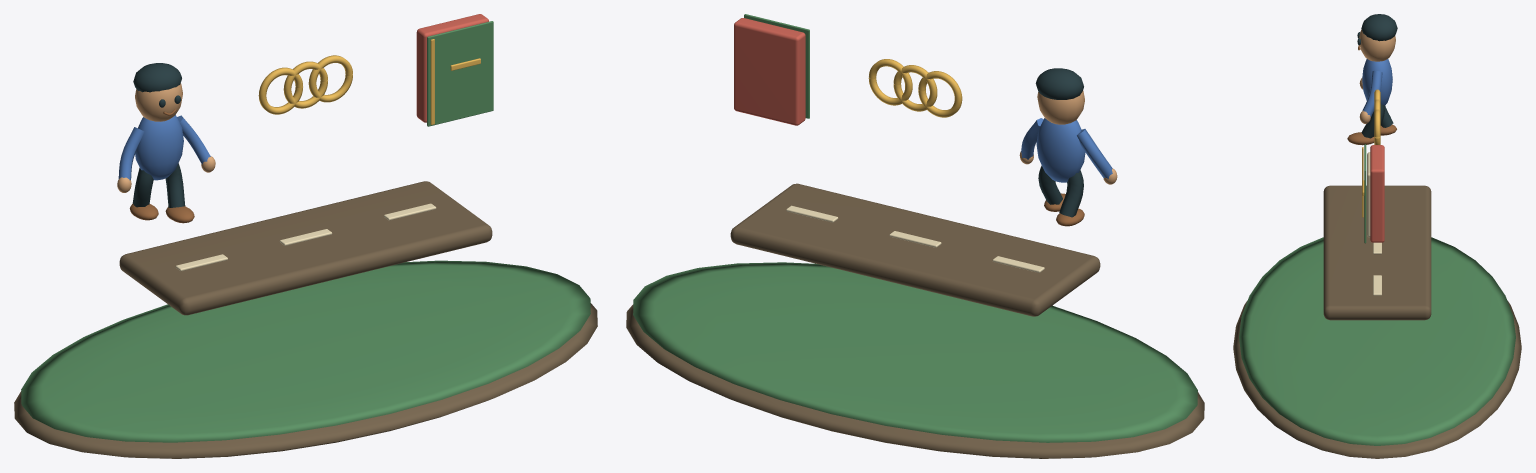
File: complete-second-linking-path.glb
The picture shows the model from 3 angles, left to right: view 1: azimuth 30°, elevation 25°; view 2: azimuth 150°, elevation 25°; view 3: azimuth 270°, elevation 25°; orthographic projection. The views are drawn at different scales.
Visible parts, largest first — view 1: complete-second-linking-path_surface_01, complete-second-linking-path_surface_00, complete-second-linking-path_surface_06, complete-second-linking-path_surface_08, complete-second-linking-path_surface_04, complete-second-linking-path_surface_07, complete-second-linking-path_surface_03, complete-second-linking-path_surface_02, complete-second-linking-path_surface_05; view 2: complete-second-linking-path_surface_01, complete-second-linking-path_surface_00, complete-second-linking-path_surface_07, complete-second-linking-path_surface_06, complete-second-linking-path_surface_08, complete-second-linking-path_surface_04, complete-second-linking-path_surface_03, complete-second-linking-path_surface_02; view 3: complete-second-linking-path_surface_01, complete-second-linking-path_surface_00, complete-second-linking-path_surface_07, complete-second-linking-path_surface_04, complete-second-linking-path_surface_06, complete-second-linking-path_surface_03, complete-second-linking-path_surface_02, complete-second-linking-path_surface_08, complete-second-linking-path_surface_05.
Part boxes in pixels (x1,y1,x2,y2): complete-second-linking-path_surface_01: [21, 21, 590, 442]; complete-second-linking-path_surface_00: [14, 181, 597, 458]; complete-second-linking-path_surface_06: [118, 115, 210, 180]; complete-second-linking-path_surface_08: [258, 39, 480, 124]; complete-second-linking-path_surface_04: [132, 63, 185, 207]; complete-second-linking-path_surface_07: [416, 14, 488, 122]; complete-second-linking-path_surface_03: [117, 83, 215, 192]; complete-second-linking-path_surface_02: [175, 203, 436, 271]; complete-second-linking-path_surface_05: [129, 109, 194, 223]; complete-second-linking-path_surface_01: [633, 14, 1197, 442]; complete-second-linking-path_surface_00: [626, 183, 1204, 458]; complete-second-linking-path_surface_07: [734, 18, 805, 125]; complete-second-linking-path_surface_06: [1021, 118, 1112, 182]; complete-second-linking-path_surface_08: [868, 59, 962, 117]; complete-second-linking-path_surface_04: [1035, 68, 1083, 217]; complete-second-linking-path_surface_03: [1019, 90, 1117, 184]; complete-second-linking-path_surface_02: [786, 205, 1044, 272]; complete-second-linking-path_surface_01: [1239, 144, 1515, 445]; complete-second-linking-path_surface_00: [1233, 185, 1521, 458]; complete-second-linking-path_surface_07: [1370, 145, 1384, 242]; complete-second-linking-path_surface_04: [1357, 14, 1397, 138]; complete-second-linking-path_surface_06: [1362, 59, 1392, 117]; complete-second-linking-path_surface_03: [1359, 29, 1395, 123]; complete-second-linking-path_surface_02: [1367, 152, 1381, 295]; complete-second-linking-path_surface_08: [1362, 89, 1380, 217]; complete-second-linking-path_surface_05: [1347, 45, 1396, 145].
Bounding box in the file's own units: 4.56 × 2.73 × 2.5.
